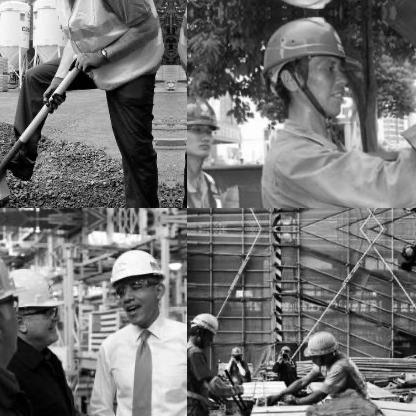Helmet: (252, 13, 362, 122), (0, 255, 66, 346), (98, 239, 172, 316), (0, 230, 36, 360), (187, 85, 226, 169), (302, 330, 340, 360), (187, 312, 218, 345), (228, 345, 242, 359), (278, 345, 290, 359)
